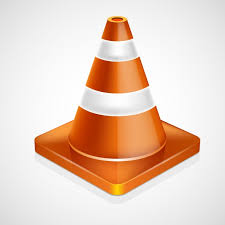cones: (31, 16, 205, 196)
